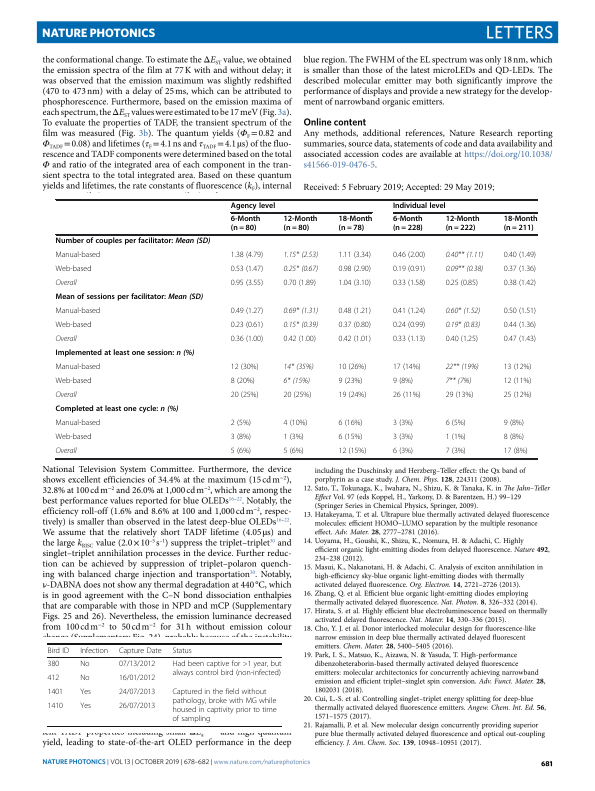borderless: (54, 198, 537, 458), (47, 642, 282, 726)
cell: (171, 687, 277, 724), (171, 659, 282, 678), (55, 237, 211, 247), (55, 293, 204, 303), (55, 349, 195, 359), (55, 405, 179, 415), (283, 215, 318, 234), (338, 215, 373, 234), (445, 215, 480, 234), (503, 215, 538, 234), (392, 215, 424, 234), (230, 215, 261, 234), (392, 202, 447, 211), (230, 202, 276, 211), (55, 251, 101, 260), (55, 307, 101, 316), (55, 363, 101, 372), (55, 419, 101, 428), (118, 646, 162, 655), (118, 659, 156, 669), (118, 673, 156, 683), (118, 687, 156, 697), (118, 701, 156, 711), (445, 251, 484, 260), (445, 265, 484, 274), (55, 265, 92, 274), (55, 321, 92, 330), (55, 377, 92, 386), (55, 433, 92, 442), (283, 251, 319, 260), (283, 265, 319, 274), (283, 307, 319, 316), (445, 307, 481, 316), (283, 321, 319, 330), (445, 321, 481, 330), (445, 363, 480, 372), (230, 251, 264, 260), (338, 251, 372, 260), (392, 251, 426, 260), (503, 251, 537, 260), (230, 265, 264, 274), (338, 265, 372, 274), (392, 265, 426, 274), (503, 265, 537, 274), (230, 279, 264, 288), (283, 279, 317, 288), (338, 279, 372, 288), (392, 279, 426, 288), (445, 279, 479, 288), (503, 279, 537, 288), (230, 307, 264, 316), (338, 307, 372, 316), (392, 307, 426, 316), (503, 307, 537, 316), (230, 321, 264, 330), (338, 321, 372, 330), (392, 321, 426, 330), (503, 321, 537, 330), (230, 335, 264, 344), (283, 335, 317, 344), (338, 335, 372, 344), (392, 335, 426, 344), (445, 335, 479, 344), (503, 335, 537, 344), (283, 363, 314, 372), (79, 646, 109, 655), (392, 363, 422, 372), (392, 391, 422, 400), (230, 363, 259, 372), (338, 363, 367, 372), (503, 363, 532, 372), (503, 377, 532, 386), (230, 391, 259, 400), (283, 391, 312, 400), (338, 391, 367, 400), (445, 391, 474, 400), (503, 391, 532, 400), (338, 447, 367, 456), (283, 377, 311, 386), (445, 377, 472, 386), (230, 377, 256, 386), (503, 447, 529, 456), (338, 377, 363, 386), (283, 419, 308, 428), (338, 419, 363, 428), (338, 433, 363, 442), (47, 646, 70, 655), (55, 279, 78, 288), (55, 335, 78, 344), (55, 391, 78, 400), (55, 447, 78, 456), (171, 646, 193, 655), (392, 377, 414, 386), (230, 419, 252, 428), (392, 419, 414, 428), (445, 419, 467, 428), (503, 419, 525, 428), (230, 433, 252, 442), (283, 433, 305, 442), (392, 433, 414, 442), (445, 433, 467, 442), (503, 433, 525, 442), (230, 447, 252, 456), (283, 447, 305, 456), (392, 447, 414, 456), (445, 447, 467, 456), (47, 687, 64, 697), (47, 701, 64, 711), (47, 659, 60, 669), (47, 673, 60, 683), (79, 687, 92, 697), (79, 701, 92, 711), (79, 659, 90, 669), (79, 673, 90, 683)
